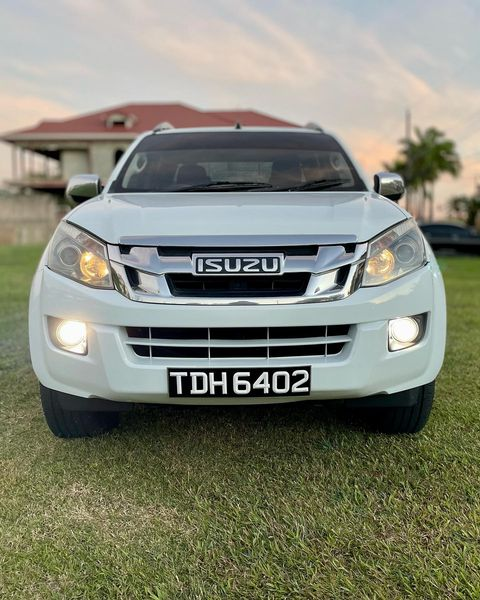License-Plate: (168, 369, 310, 397)
